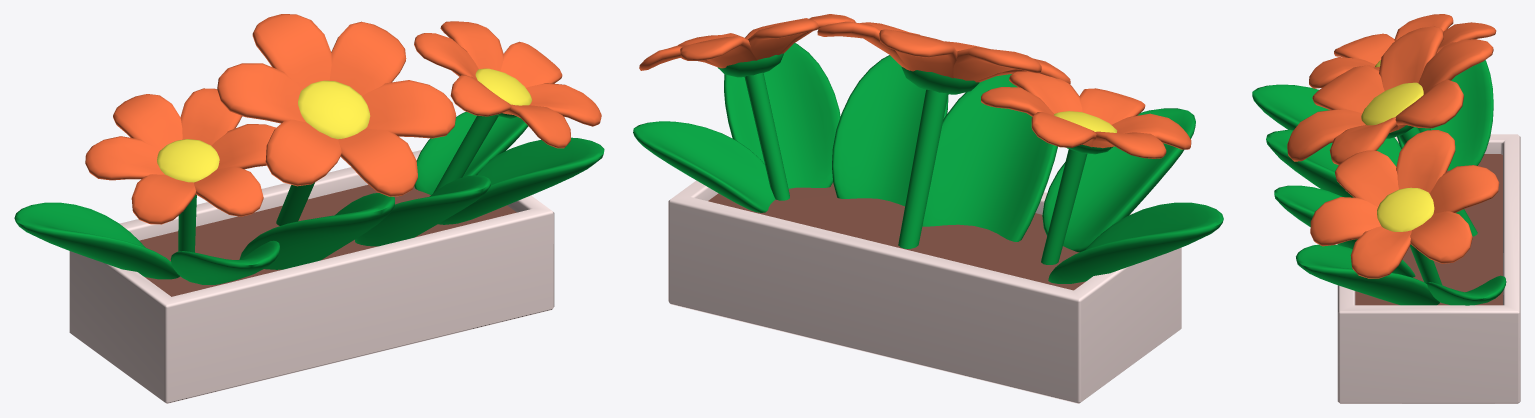
File: Town_17_Vase_With_Flowers_1.glb
3 renders of one model, left to right at view 1: azimuth 30°, elevation 25°; view 2: azimuth 150°, elevation 25°; view 3: azimuth 270°, elevation 25°, orthographic. The views are drawn at different scales.
Parts seen in each view (by area): view 1: Town_17_Vase_With_Flowers_1; view 2: Town_17_Vase_With_Flowers_1; view 3: Town_17_Vase_With_Flowers_1.
Boxes of the visible parts, x1,y1,x2,y2 form: Town_17_Vase_With_Flowers_1: (14, 14, 604, 403); Town_17_Vase_With_Flowers_1: (633, 14, 1223, 403); Town_17_Vase_With_Flowers_1: (1252, 14, 1520, 403).
Size of the model in its own units: 1.27 by 0.6345 by 0.5761.
Materials: 1 (1 with a texture image).
